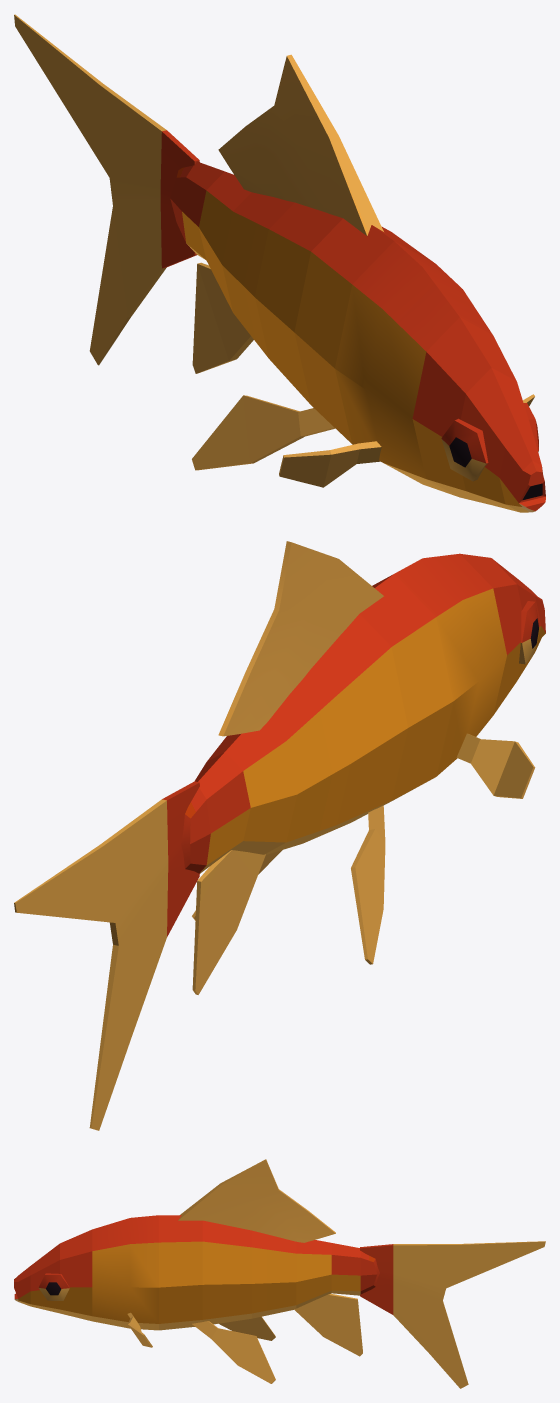
Rendered from 3GPUntjwqCa.glb.
3 views of the same model, one above another, from view 1: azimuth 30°, elevation 25°; view 2: azimuth 150°, elevation 25°; view 3: azimuth 270°, elevation 25° (orthographic). The views are drawn at different scales.
Parts seen in each view (by area): view 1: Geo_Goldfish; view 2: Geo_Goldfish; view 3: Geo_Goldfish.
Boxes of the visible parts, bbox=[...] form: Geo_Goldfish: bbox=[14, 14, 545, 512]; Geo_Goldfish: bbox=[14, 541, 545, 1130]; Geo_Goldfish: bbox=[14, 1159, 545, 1388].
Size of the model in its own units: 0.5847 by 1 by 2.1.
Materials: 1 (1 with a texture image).
